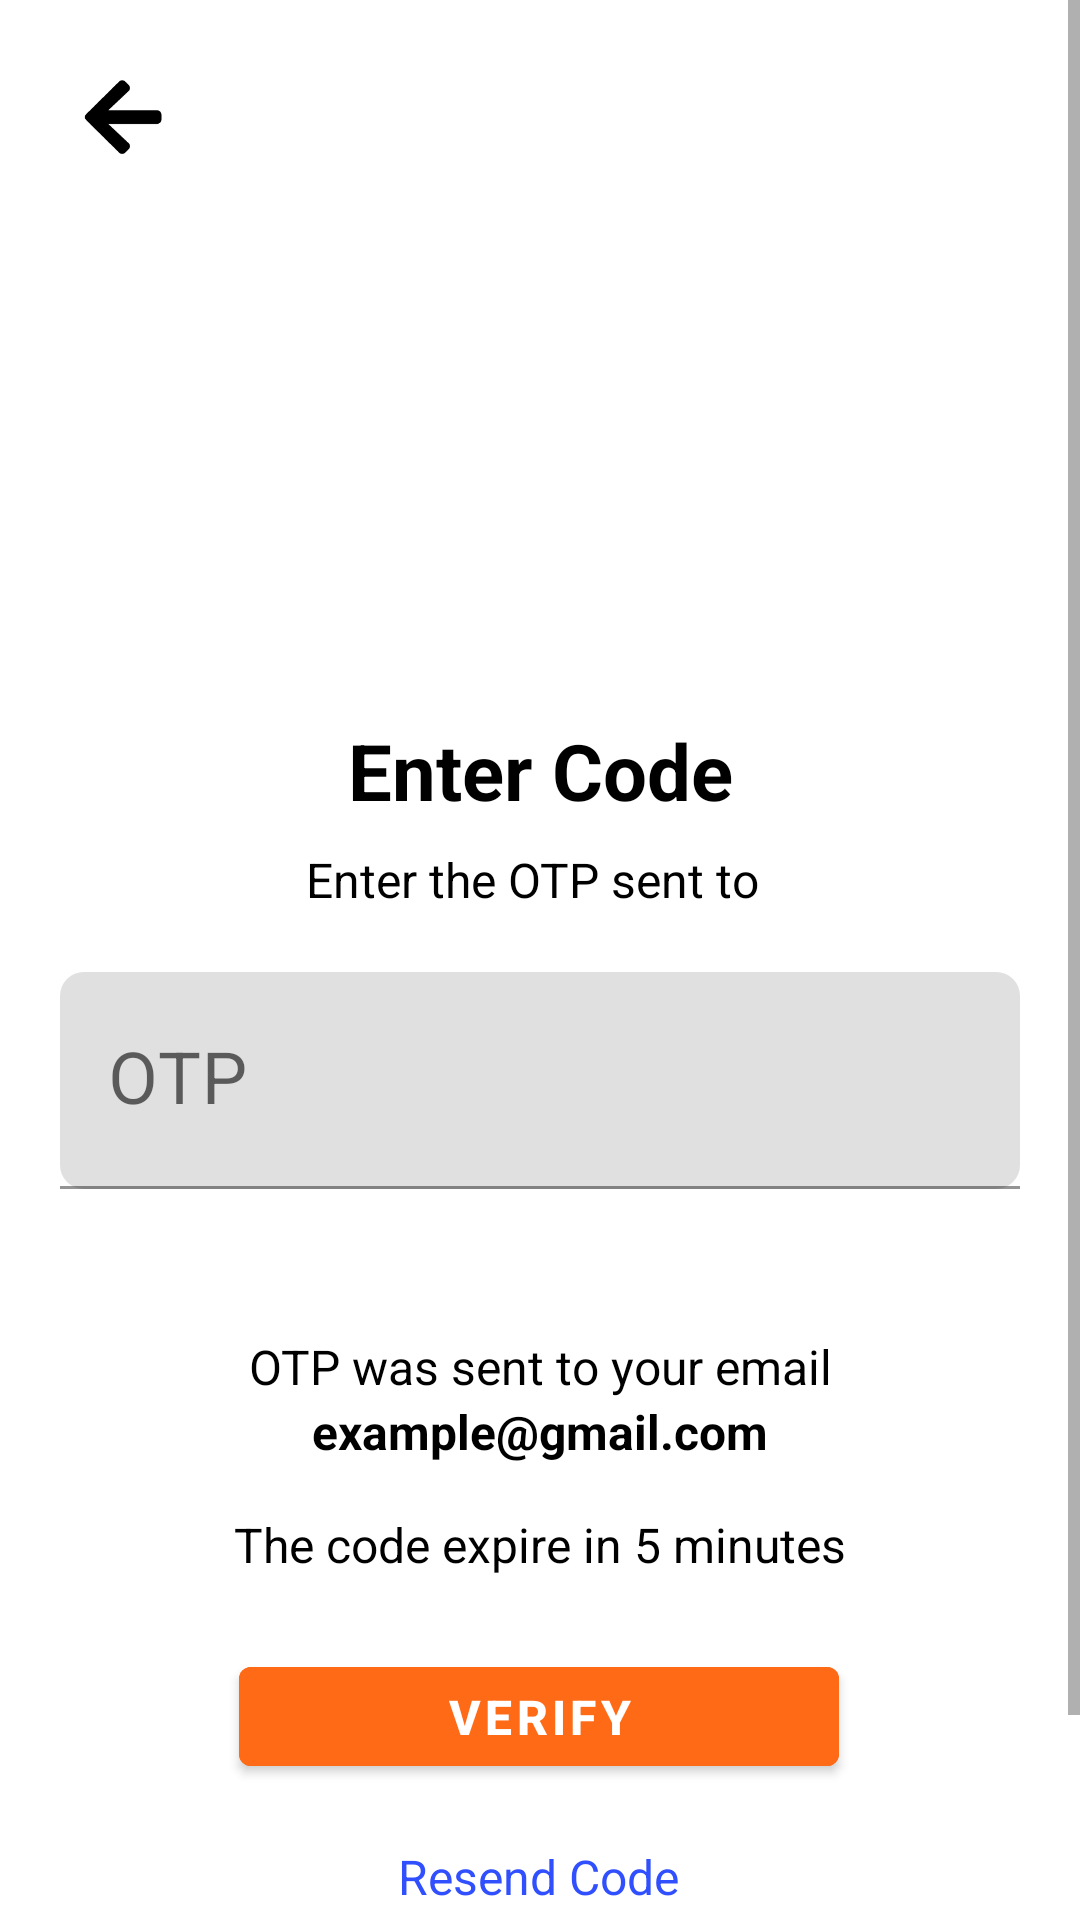

Icons on this 1080px x 1920px Android screen, each with the point to tap as [x,y]:
back: [123,117]
